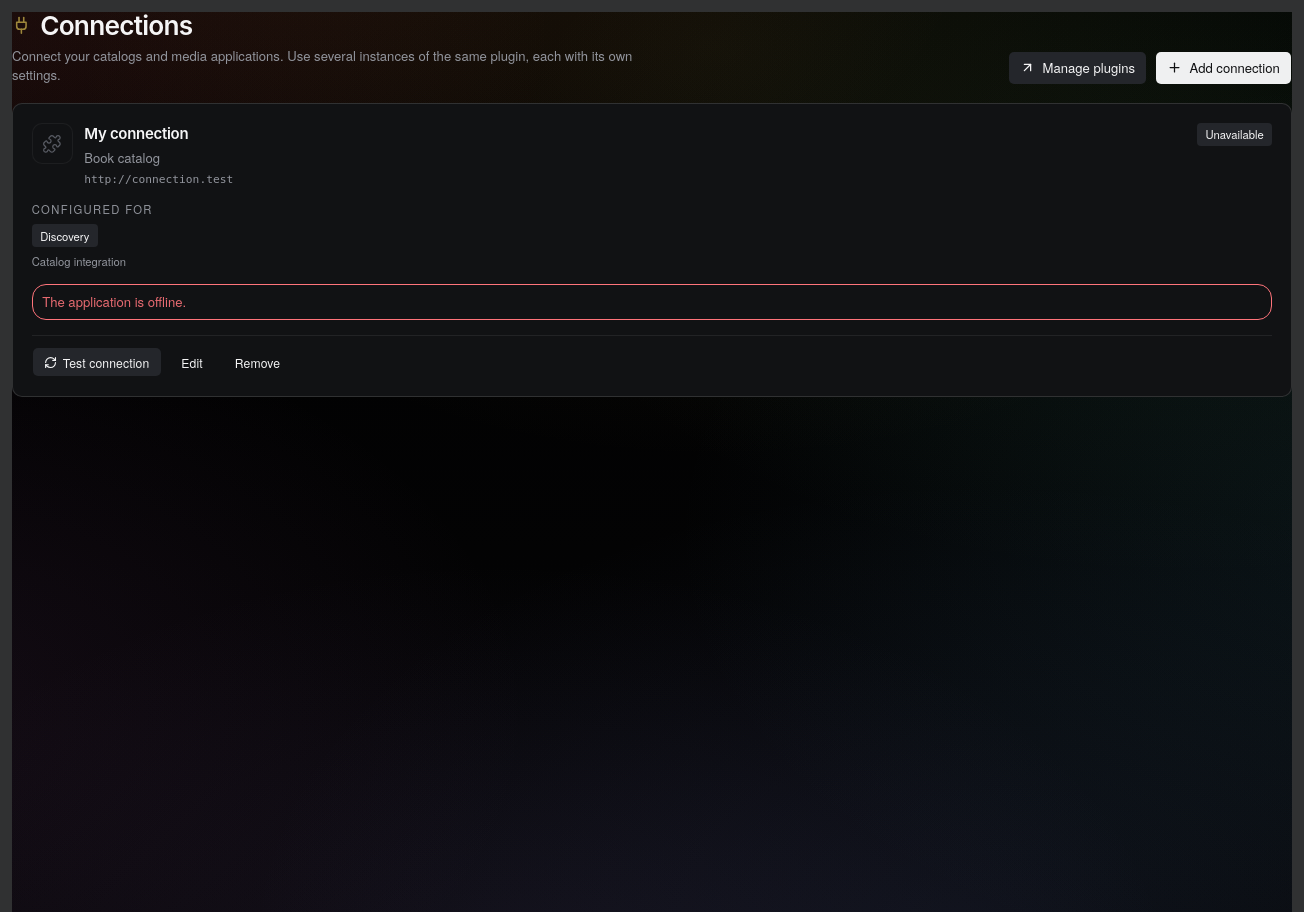
it: Settings connections › shows a real automatic-check failure and keeps explicit retry available
Expected: the text "Checking" is shown, [1197,123,1272,146]
Expected: the text "The application is offline." is shown, [42,292,186,311]
Click the button "Test connection" at (97, 362), box [32,347,162,377]
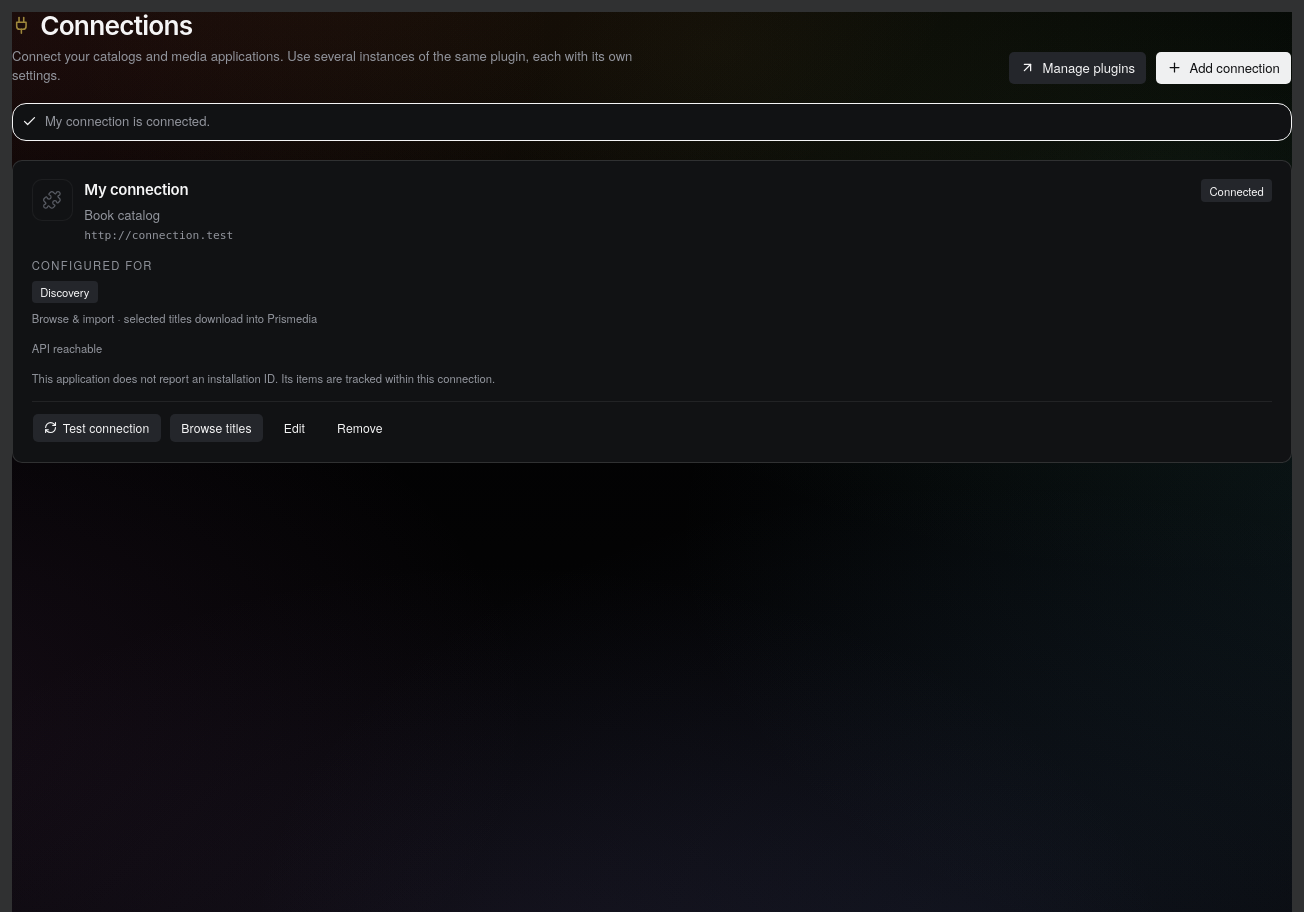
Result: the text "Connected" is shown at [1201,179,1272,202]
